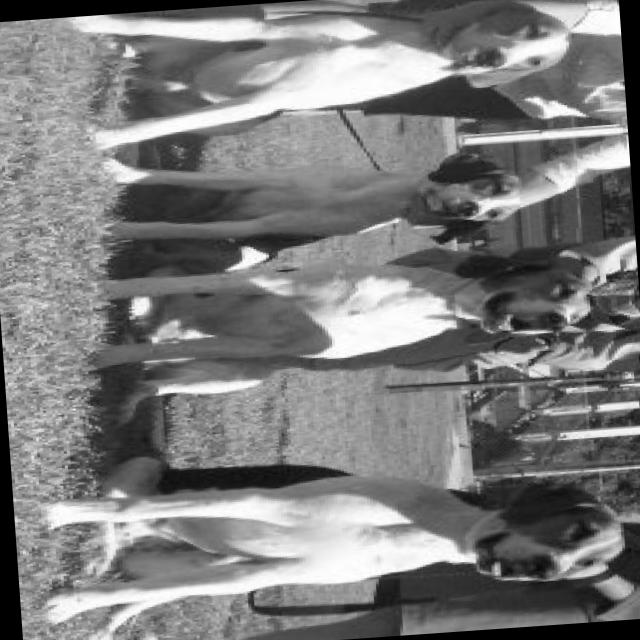sitting: (27, 422, 633, 640), (75, 240, 600, 427), (59, 0, 582, 151), (89, 124, 525, 278)
